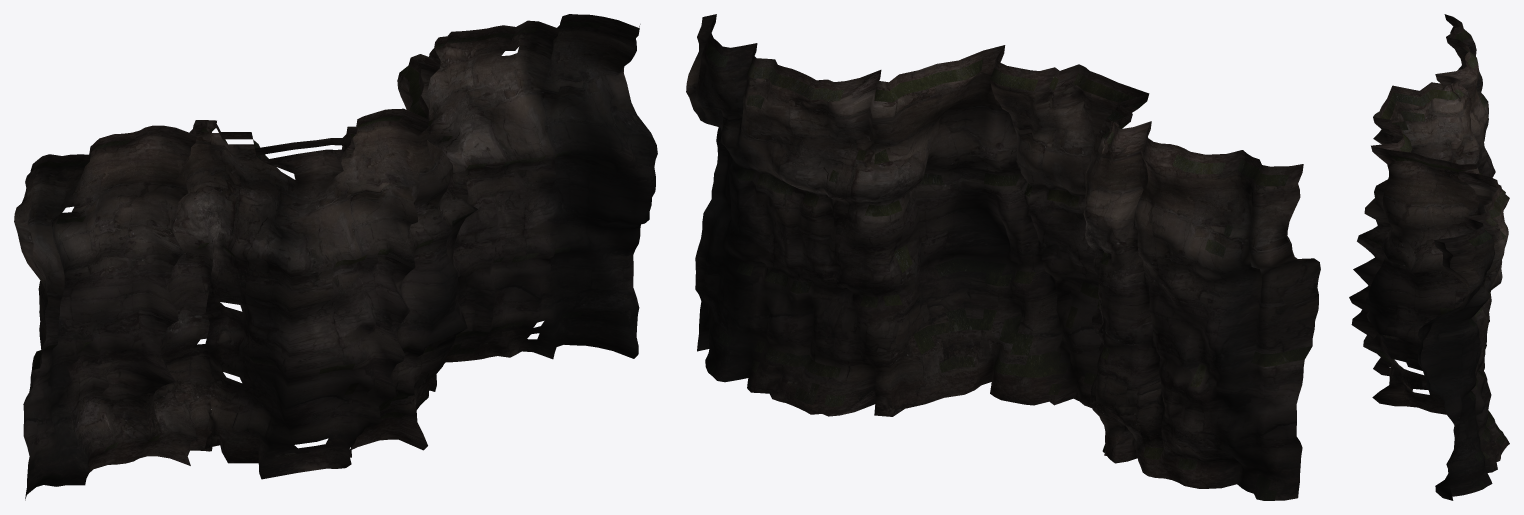
File: cliff_wall_notch_8m_upper.glb
3 views of the same model, side by side, from view 1: azimuth 30°, elevation 25°; view 2: azimuth 150°, elevation 25°; view 3: azimuth 270°, elevation 25° (orthographic). The views are drawn at different scales.
Visible parts, largest first — view 1: cliff_wall_notch_8m_upper; view 2: cliff_wall_notch_8m_upper; view 3: cliff_wall_notch_8m_upper.
Part boxes in pixels (x1=…): cliff_wall_notch_8m_upper: x1=14, y1=14, x2=657, y2=500; cliff_wall_notch_8m_upper: x1=686, y1=14, x2=1320, y2=500; cliff_wall_notch_8m_upper: x1=1349, y1=14, x2=1509, y2=500.
Size of the model in its own units: 8 by 4.2 by 2.38.
2 materials, 2 textured.
